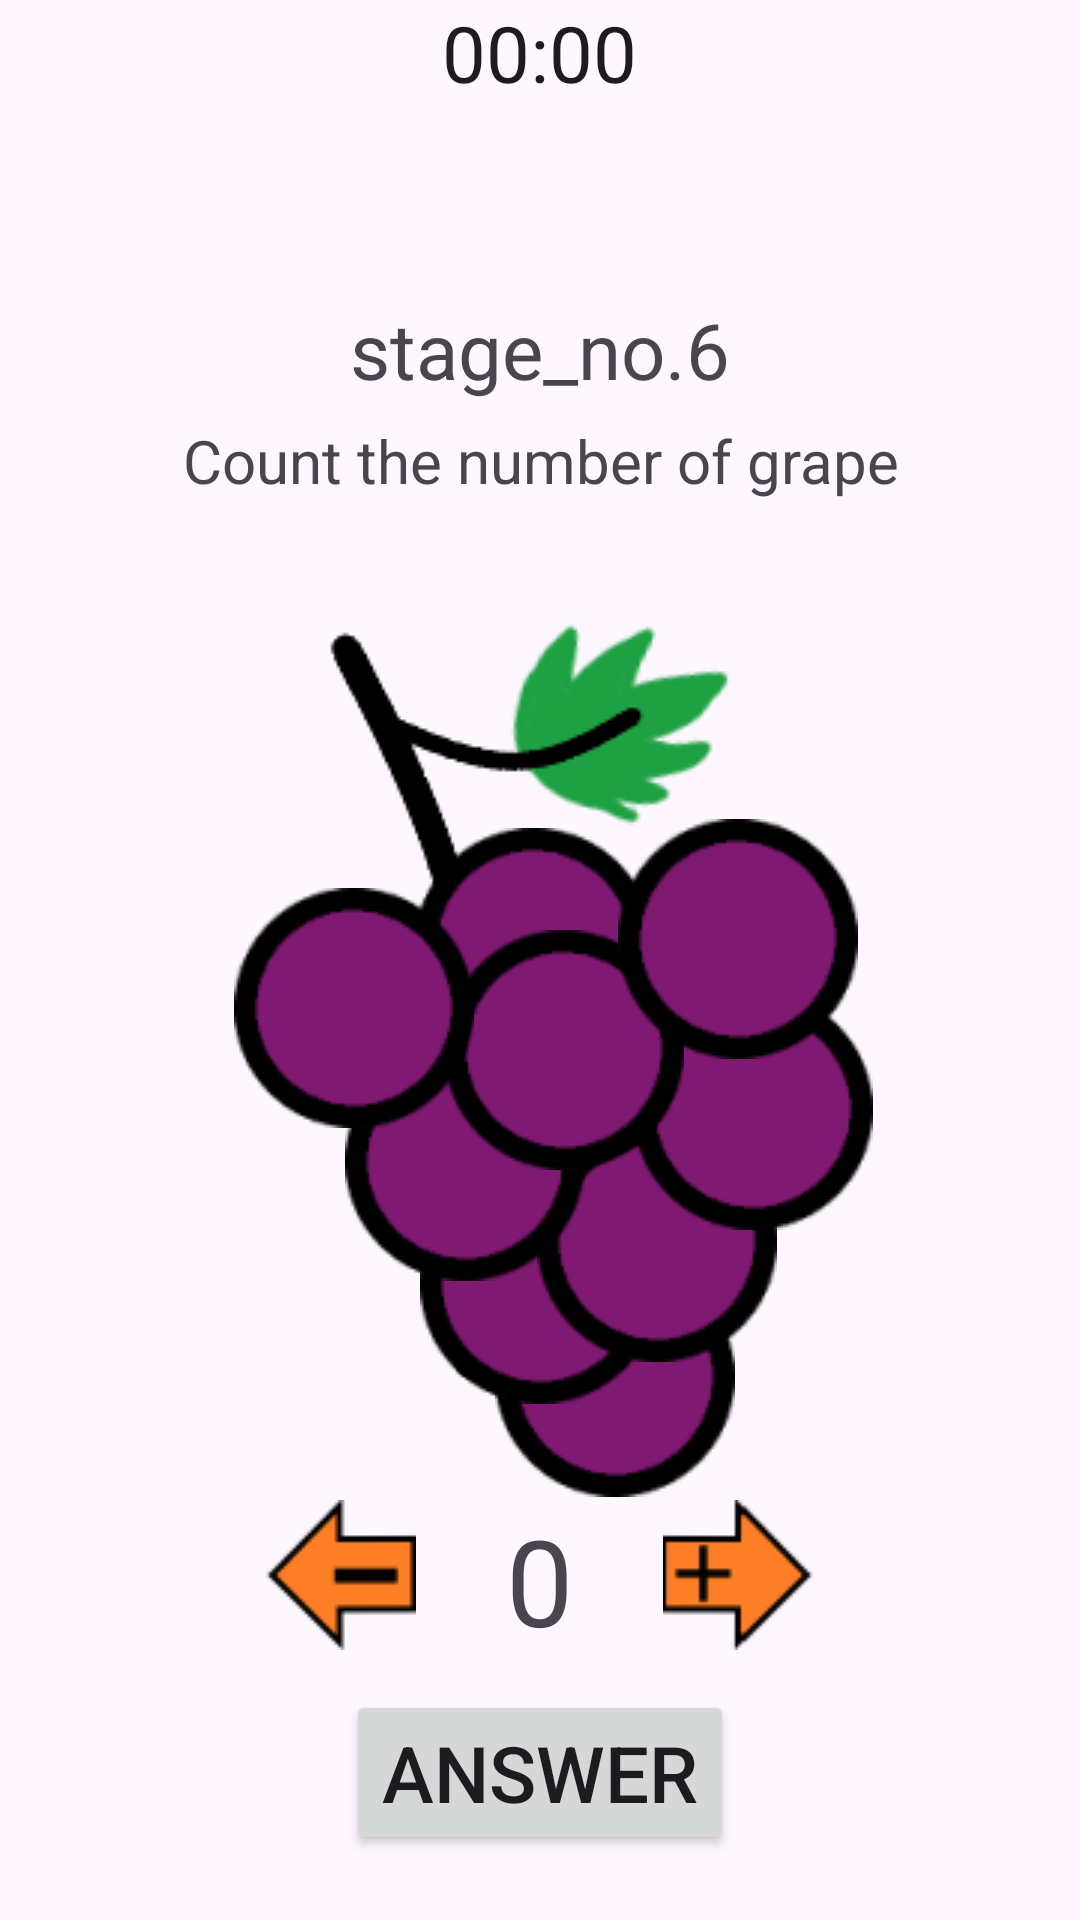

Where to tap for icons on this 1080px×1920px app screen, as (x,y):
add: (738,1575)
subtract: (341,1575)
